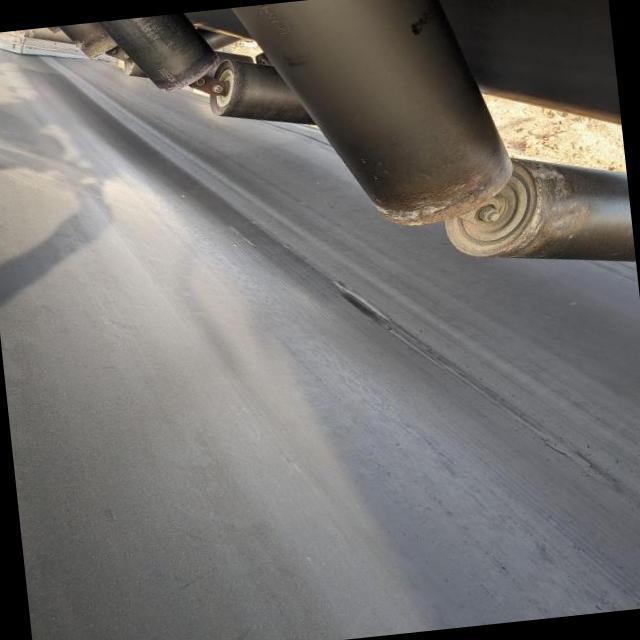Impact Damage: (330, 280, 397, 338)
